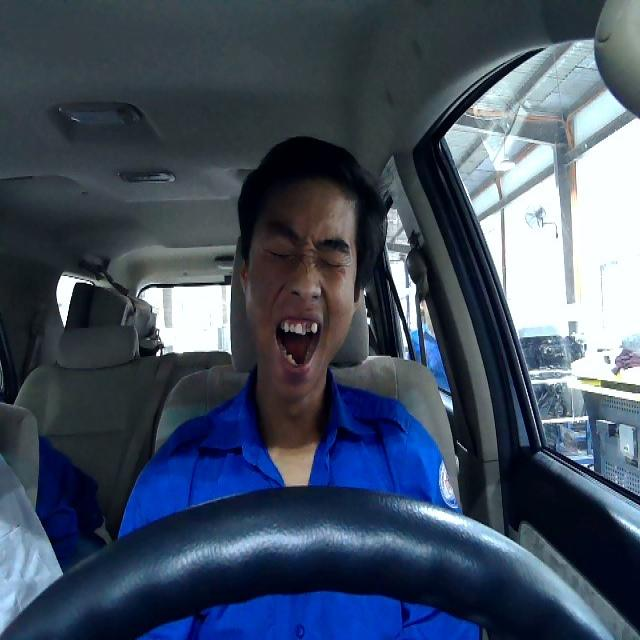yarning: (239, 178, 358, 398)
